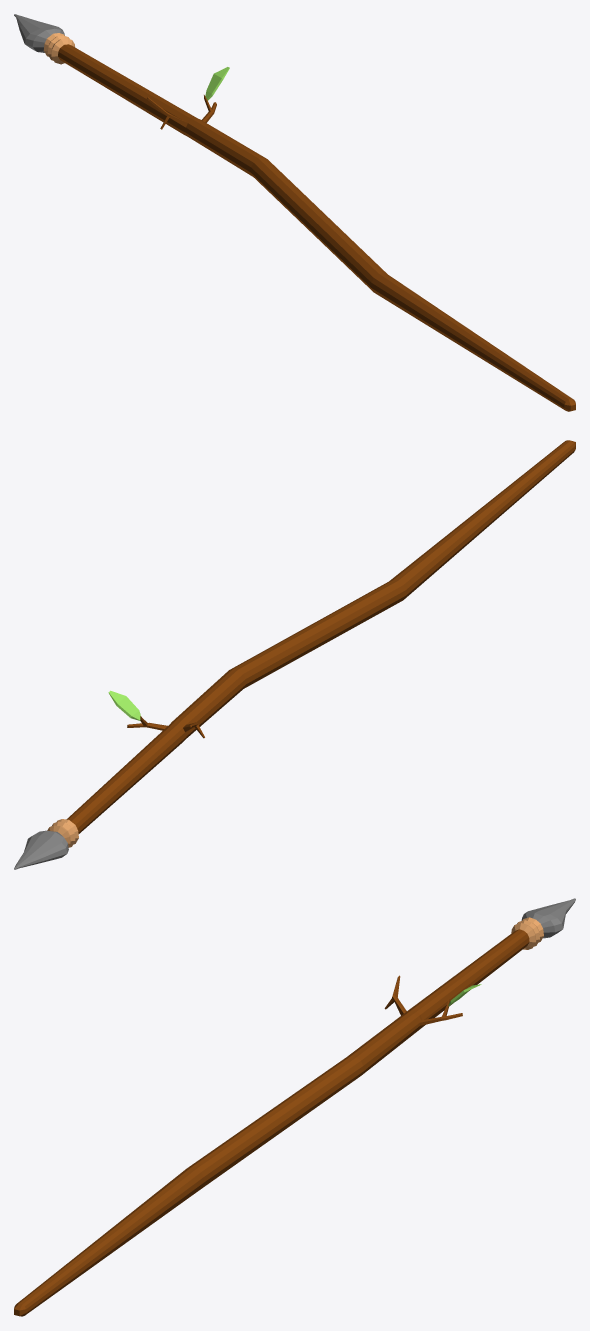
Rendered from SPEAR.fbx.
The picture shows the model from 3 angles, top to bottom: view 1: azimuth 30°, elevation 25°; view 2: azimuth 150°, elevation 25°; view 3: azimuth 330°, elevation 25°; orthographic projection. The views are drawn at different scales.
Visible parts, largest first — view 1: Cylinder; view 2: Cylinder; view 3: Cylinder.
Boxes of the visible parts, x1,y1,x2,y2 form: Cylinder: (14,14,575,411); Cylinder: (14,440,575,869); Cylinder: (14,898,575,1316).
Bounding box in the file's own units: 93.44 × 62.83 × 1082.
